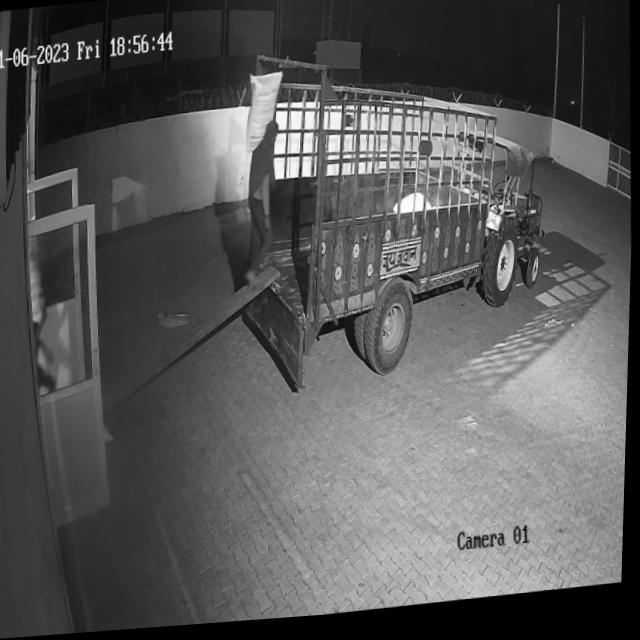sack: (244, 71, 286, 155)
